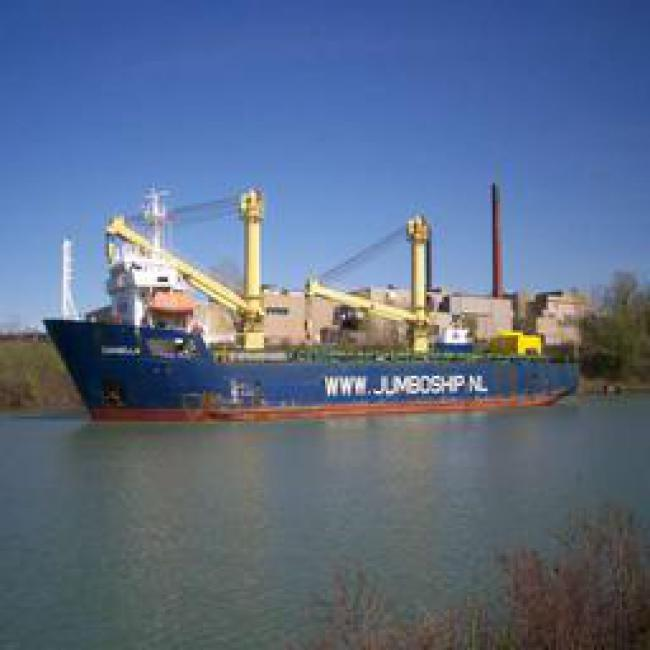Ship: (14, 256, 599, 445)
